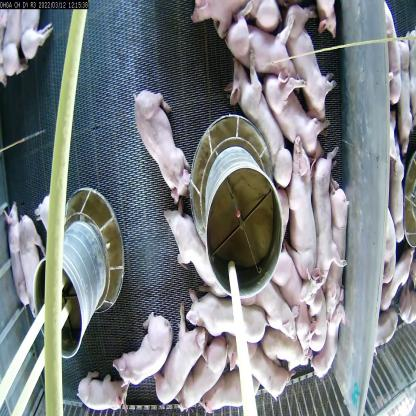Pig: (248, 34, 321, 161), (134, 88, 196, 196), (279, 121, 319, 286), (278, 11, 335, 118), (236, 74, 288, 190), (227, 17, 299, 92), (194, 275, 268, 345), (154, 313, 210, 398), (113, 310, 171, 390), (224, 328, 288, 400), (165, 334, 228, 404), (311, 140, 340, 273), (241, 279, 305, 339), (268, 242, 313, 325), (329, 186, 356, 318), (18, 211, 51, 315), (0, 194, 27, 302), (207, 367, 266, 415), (75, 372, 129, 416)
